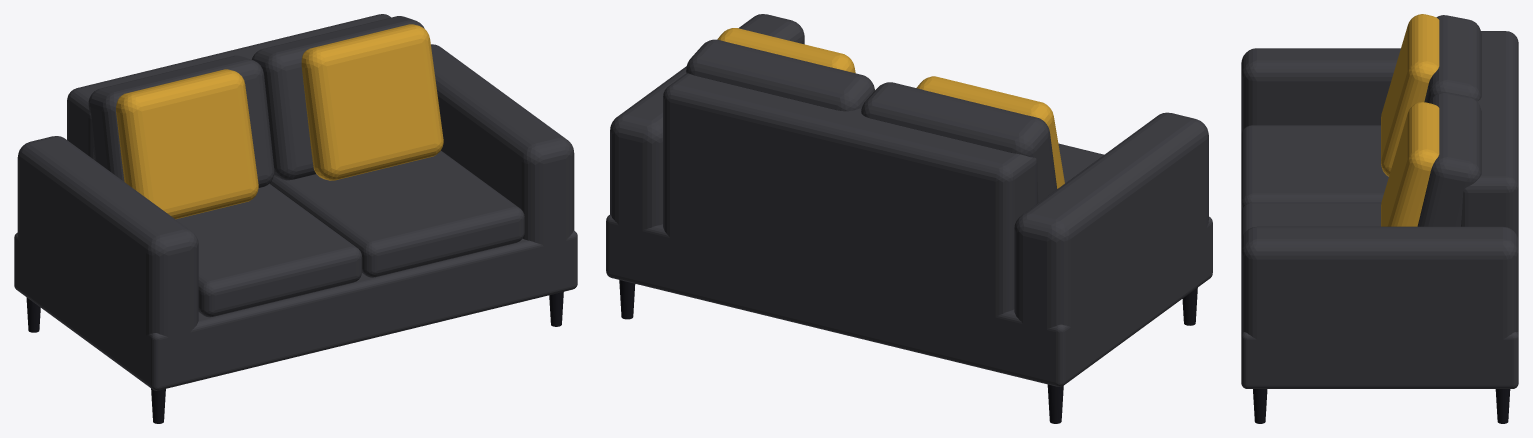
File: 002_loveseat.glb
3 views of the same model, side by side, from view 1: azimuth 30°, elevation 25°; view 2: azimuth 150°, elevation 25°; view 3: azimuth 270°, elevation 25° (orthographic). The views are drawn at different scales.
Visible parts, largest first — view 1: 004_sofa_base_frame, 005_sofa_arm_l, 009_sofa_seat_cushion_2, 013_sofa_throw_pillow, 012_sofa_throw_pillow, 006_sofa_arm_r, 008_sofa_seat_cushion_1, 011_sofa_back_cushion_2, 010_sofa_back_cushion_1, 007_sofa_back_frame; view 2: 007_sofa_back_frame, 005_sofa_arm_l, 004_sofa_base_frame, 006_sofa_arm_r, 010_sofa_back_cushion_1, 011_sofa_back_cushion_2, 012_sofa_throw_pillow, 013_sofa_throw_pillow, 008_sofa_seat_cushion_1; view 3: 006_sofa_arm_r, 004_sofa_base_frame, 005_sofa_arm_l, 008_sofa_seat_cushion_1, 007_sofa_back_frame, 011_sofa_back_cushion_2, 013_sofa_throw_pillow, 012_sofa_throw_pillow, 010_sofa_back_cushion_1, 009_sofa_seat_cushion_2, 001_sofa_leg, 003_sofa_leg.
Part boxes in pixels (x1,y1,x2,y2): 004_sofa_base_frame: (14, 230, 577, 390); 005_sofa_arm_l: (17, 136, 198, 375); 009_sofa_seat_cushion_2: (270, 151, 524, 277); 013_sofa_throw_pillow: (301, 24, 443, 180); 012_sofa_throw_pillow: (116, 69, 258, 219); 006_sofa_arm_r: (431, 44, 574, 284); 008_sofa_seat_cushion_1: (176, 183, 362, 317); 011_sofa_back_cushion_2: (252, 16, 424, 180); 010_sofa_back_cushion_1: (88, 55, 274, 187); 007_sofa_back_frame: (67, 14, 390, 159); 007_sofa_back_frame: (663, 73, 1037, 361); 005_sofa_arm_l: (1014, 112, 1208, 370); 004_sofa_base_frame: (606, 214, 1212, 386); 006_sofa_arm_r: (610, 14, 804, 271); 010_sofa_back_cushion_1: (861, 82, 1057, 203); 011_sofa_back_cushion_2: (686, 39, 874, 111); 012_sofa_throw_pillow: (916, 76, 1064, 188); 013_sofa_throw_pillow: (717, 28, 855, 73); 008_sofa_seat_cushion_1: (1058, 143, 1103, 183); 006_sofa_arm_r: (1241, 226, 1518, 376); 004_sofa_base_frame: (1241, 332, 1518, 388); 005_sofa_arm_l: (1241, 48, 1400, 134); 008_sofa_seat_cushion_1: (1241, 125, 1388, 211); 007_sofa_back_frame: (1461, 31, 1518, 240); 011_sofa_back_cushion_2: (1417, 92, 1481, 226); 013_sofa_throw_pillow: (1381, 102, 1439, 226); 012_sofa_throw_pillow: (1381, 14, 1439, 176); 010_sofa_back_cushion_1: (1424, 15, 1481, 102); 009_sofa_seat_cushion_2: (1241, 202, 1381, 240); 001_sofa_leg: (1495, 389, 1510, 423); 003_sofa_leg: (1253, 389, 1267, 423).
Size of the model in its own units: 1.52 by 0.8567 by 0.88.
